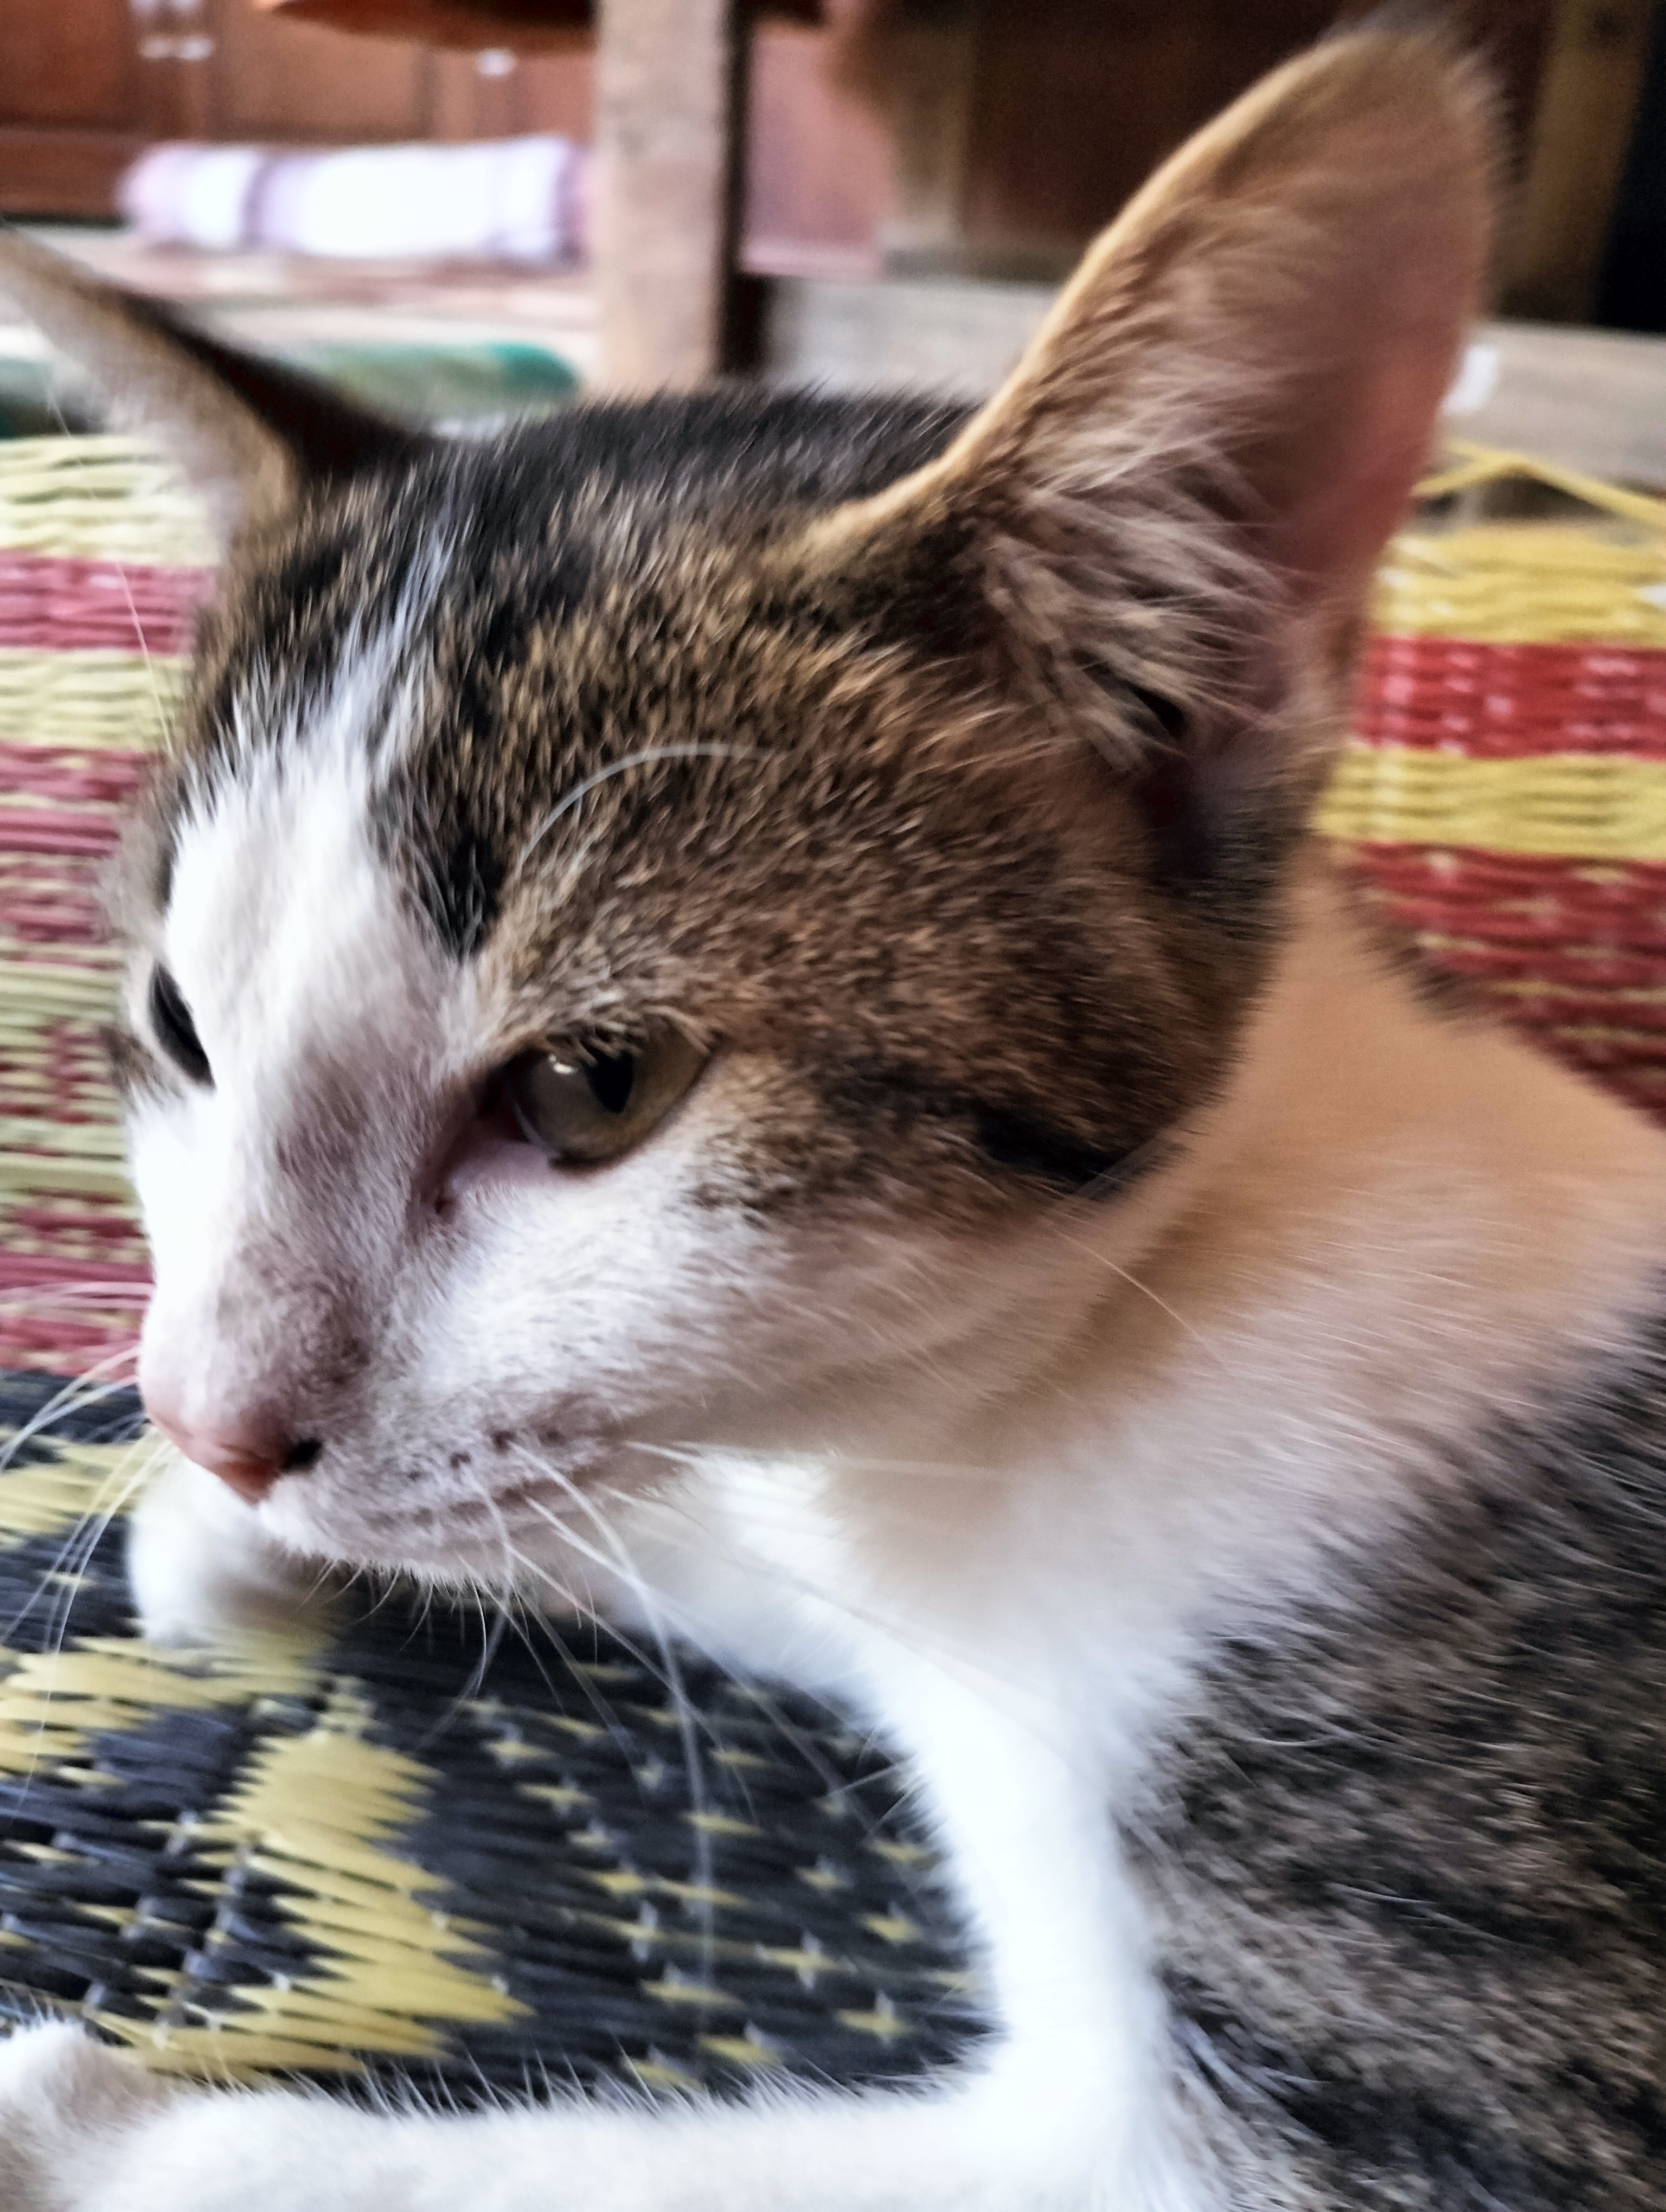miki: (25, 65, 1573, 1696)
